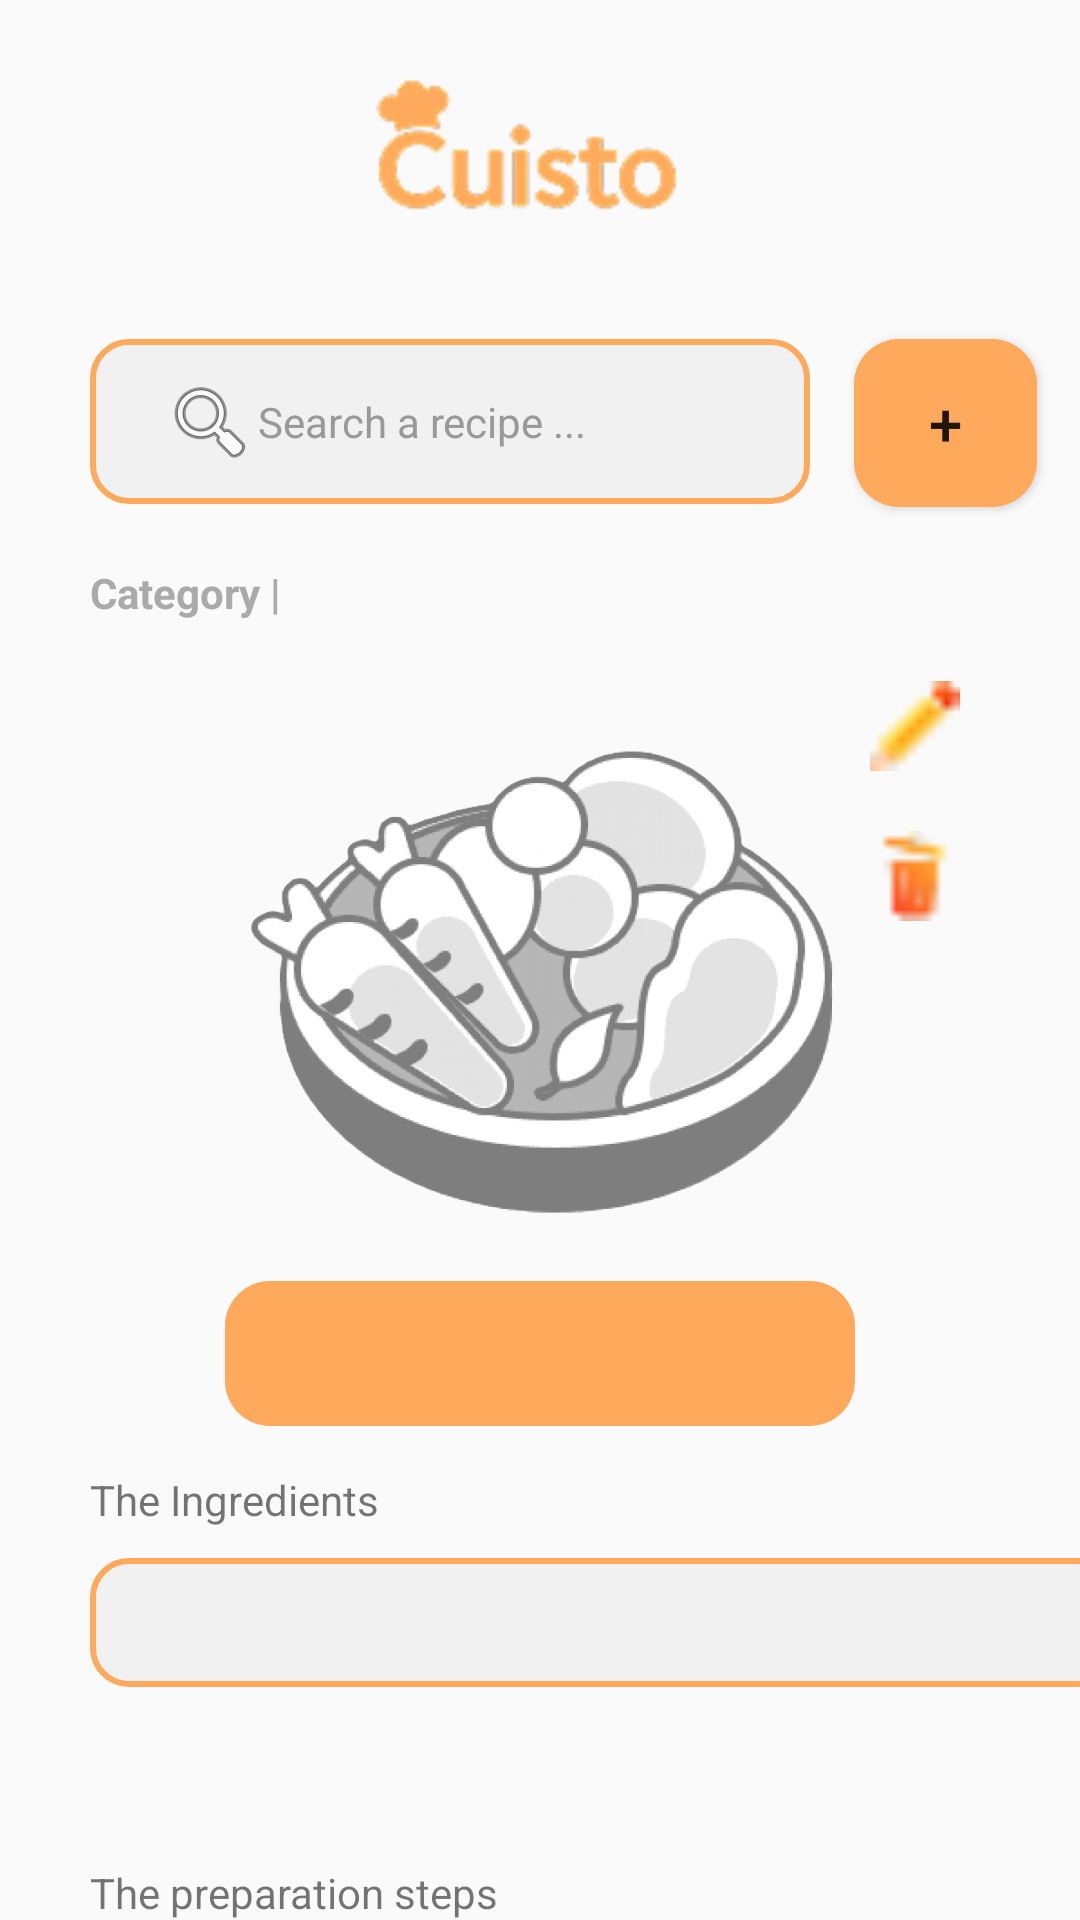

Icon click points for this 1080 x 1920 phone screenshot, format point (x, y):
delete: point (914, 876)
